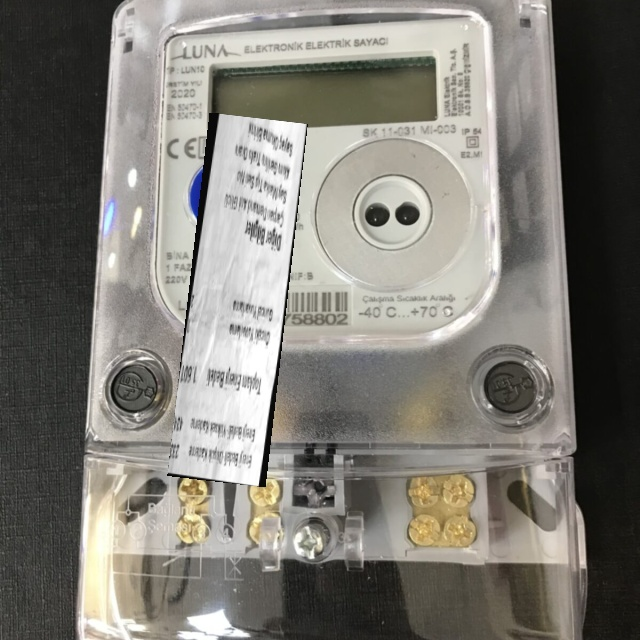electricity-bill: (166, 113, 307, 487)
